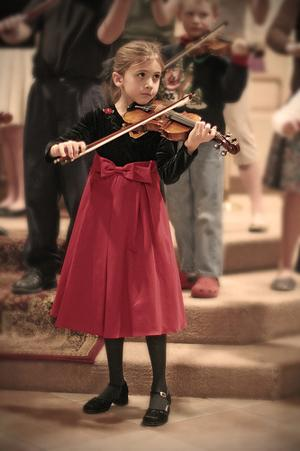person: (46, 42, 218, 425)
